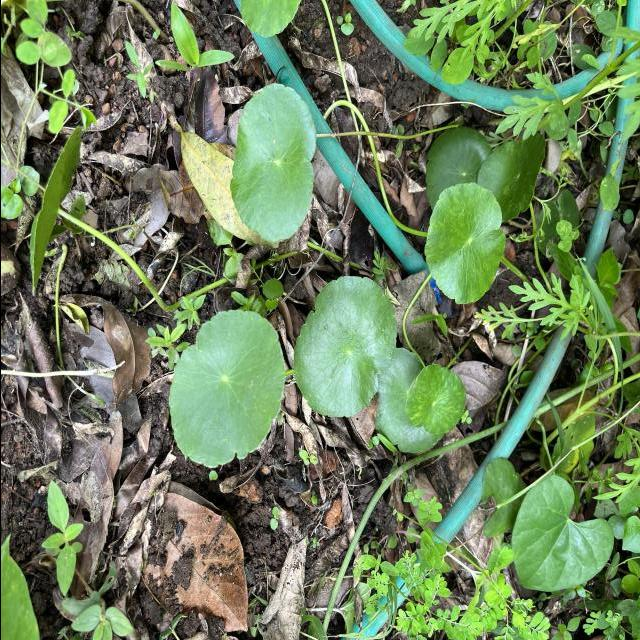Bacopa monnieri: (165, 306, 288, 471), (290, 273, 400, 421), (228, 81, 318, 244), (421, 180, 508, 306), (402, 362, 468, 438)
